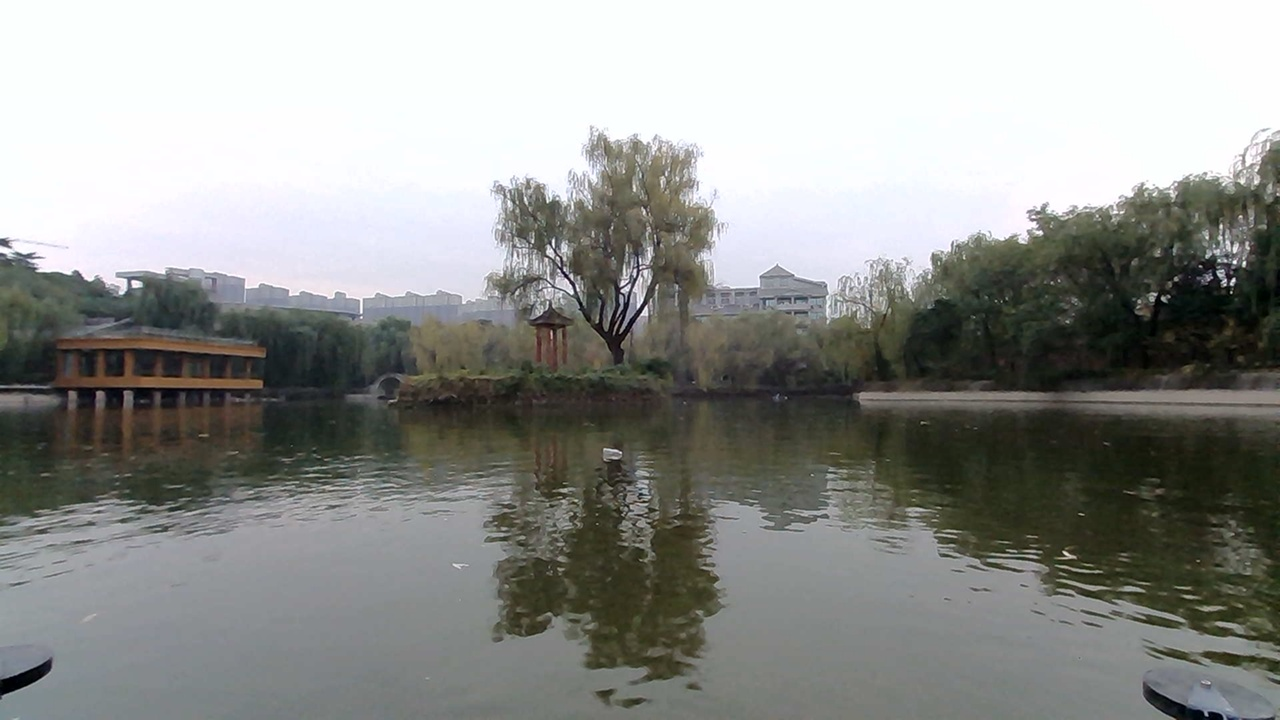bottle: (580, 432, 644, 465)
